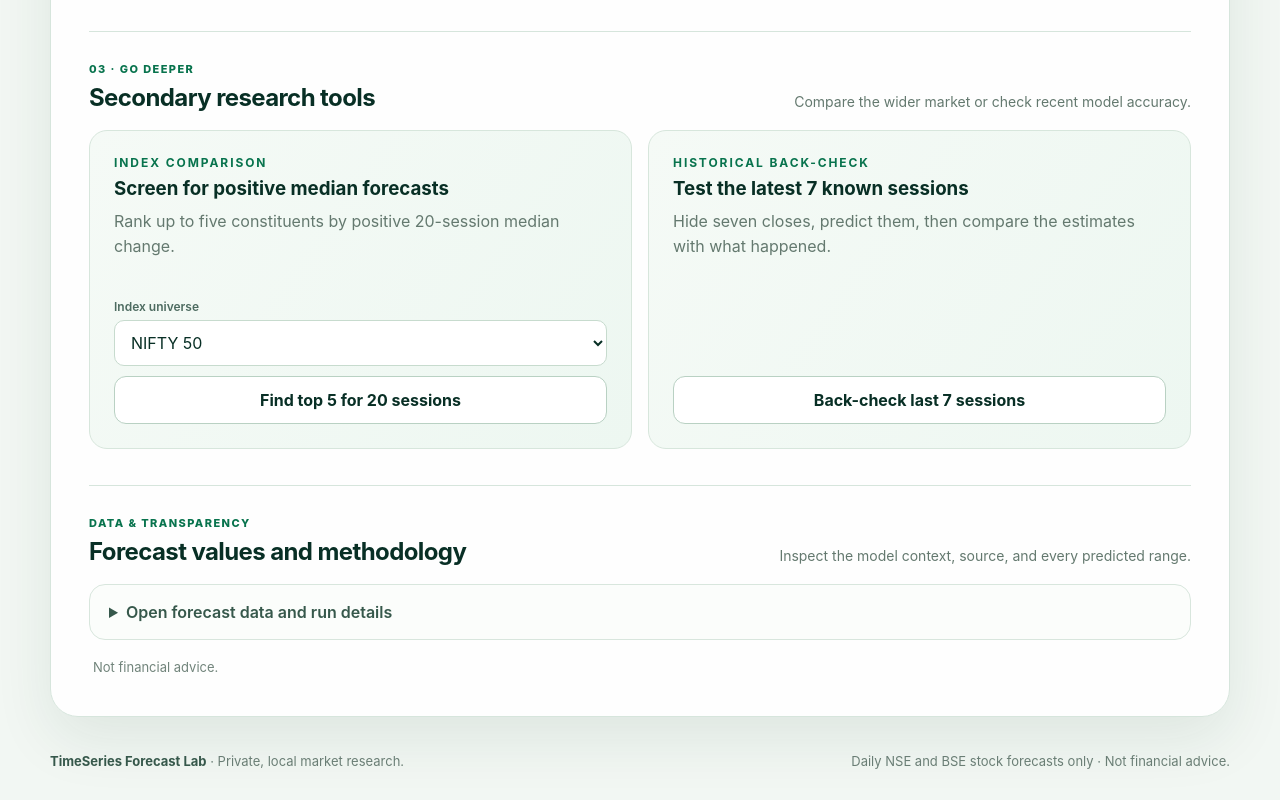
Test: App › keeps back-check results visible for an older backend response
(page scrolled)
Step 1. Click the button "Back-check last 7 sessions" → (920, 400), box [673,376,1166,424]
(page scrolled)
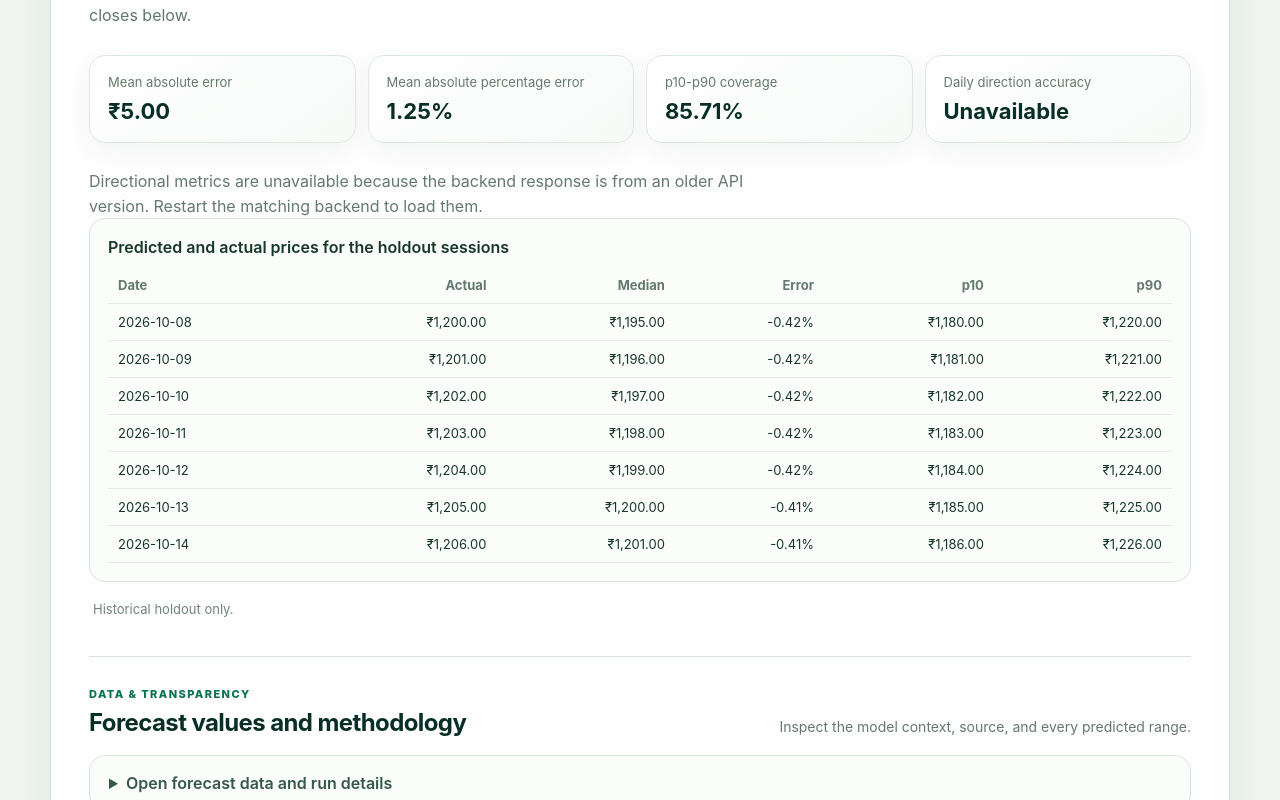
Expected: the text "Unavailable" is shown, [944,98,1069,124]
Expected: the table "Predicted and actual prices for the holdout sessions" is shown, [108,237,1172,563]
